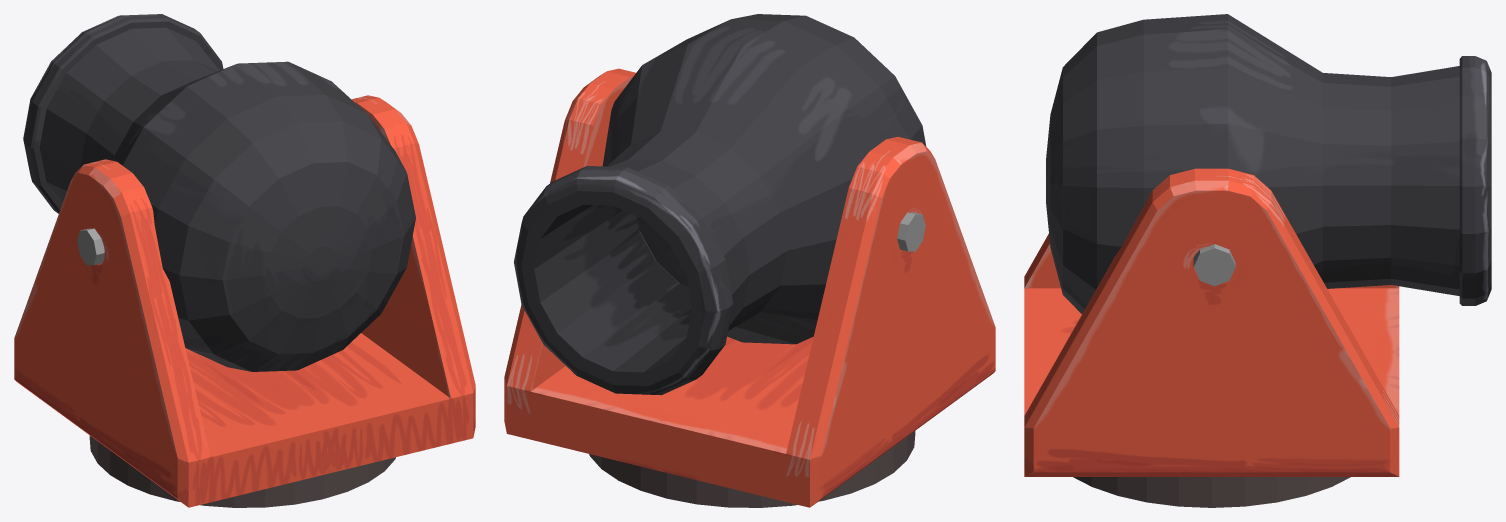
Rendered from Cannon.fbx.
The picture shows the model from 3 angles, left to right: view 1: azimuth 30°, elevation 25°; view 2: azimuth 150°, elevation 25°; view 3: azimuth 270°, elevation 25°; orthographic projection. The views are drawn at different scales.
Parts seen in each view (by area): view 1: Cannon, Support, SupportBase, Axis; view 2: Cannon, Support, SupportBase, Axis; view 3: Support, Cannon, SupportBase, Axis.
Boxes of the visible parts, x1,y1,x2,y2 form: Cannon: (23, 14, 415, 371); Support: (14, 95, 475, 507); SupportBase: (89, 435, 395, 507); Axis: (77, 228, 104, 265); Cannon: (514, 14, 926, 395); Support: (504, 68, 995, 507); SupportBase: (589, 431, 915, 507); Axis: (897, 212, 925, 251); Support: (1024, 168, 1399, 476); Cannon: (1046, 14, 1491, 313); SupportBase: (1073, 477, 1350, 507); Axis: (1193, 244, 1235, 286).
Size of the model in its own units: 93.86 by 107 by 111.
